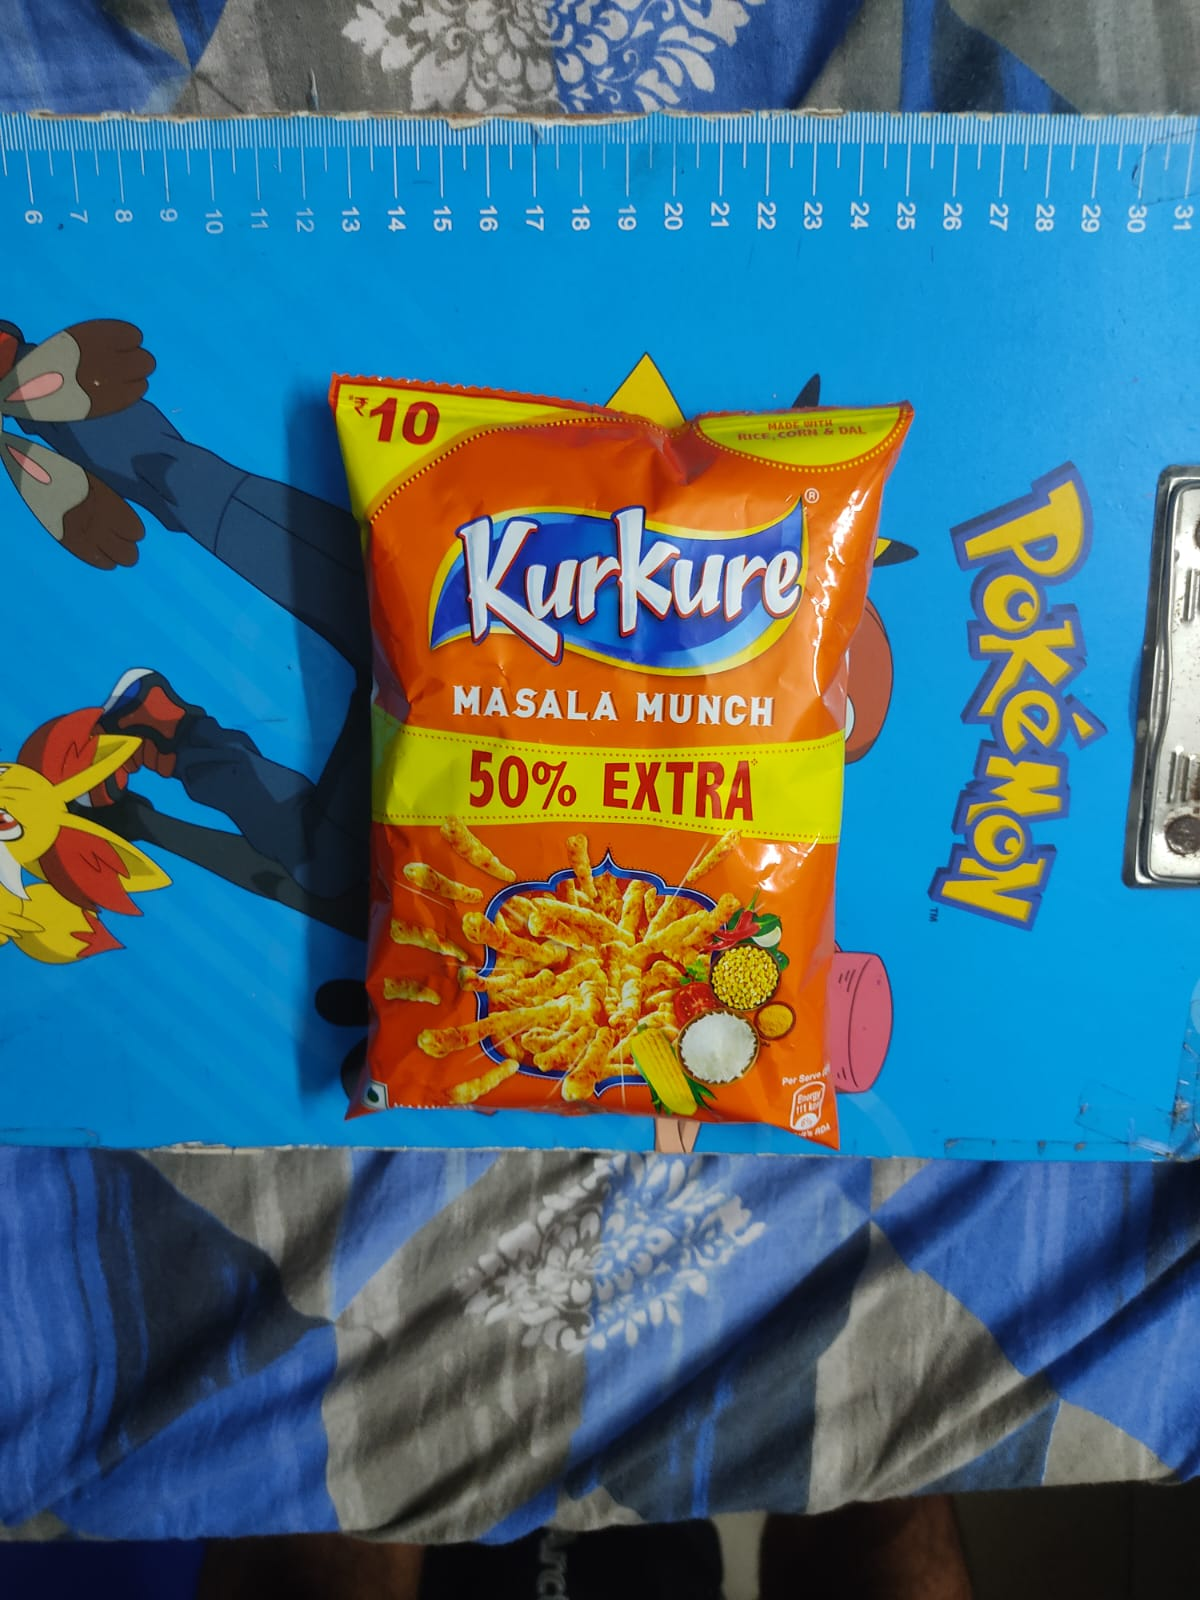010_Kurkure: (330, 386, 884, 1140)
